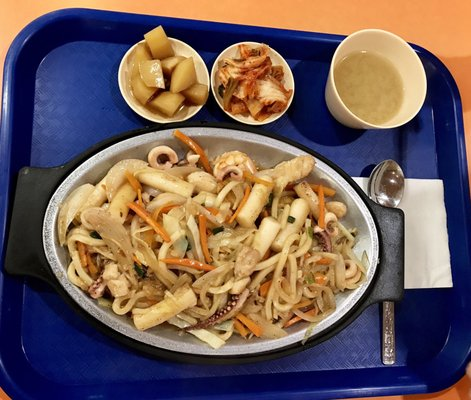pizza: (324, 29, 427, 130)
salad: (368, 160, 405, 209)
sushi: (29, 125, 381, 361), (324, 28, 428, 131), (118, 26, 212, 127), (210, 41, 296, 126)
